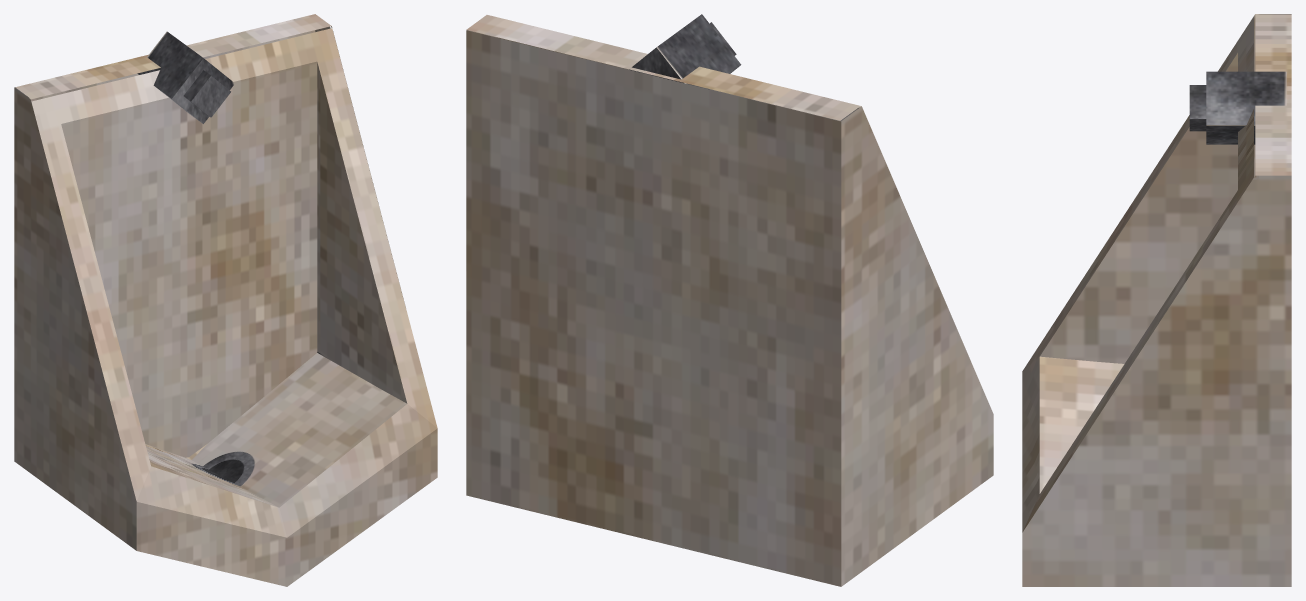
Rendered from pisuar.fbx.
3 views of the same model, side by side, from view 1: azimuth 30°, elevation 25°; view 2: azimuth 150°, elevation 25°; view 3: azimuth 270°, elevation 25° (orthographic). The views are drawn at different scales.
Visible parts, largest first — view 1: Pisuar; view 2: Pisuar; view 3: Pisuar.
Boxes of the visible parts, left/top/right/bottom form: Pisuar: left=14, top=14, right=437, bottom=586; Pisuar: left=466, top=14, right=993, bottom=586; Pisuar: left=1022, top=14, right=1291, bottom=586.
Bounding box in the file's own units: 38.02 × 56.45 × 26.76.
